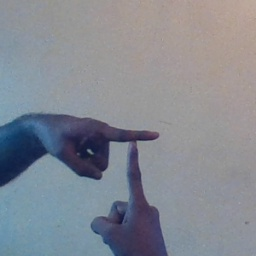T: (82, 107, 173, 220)
